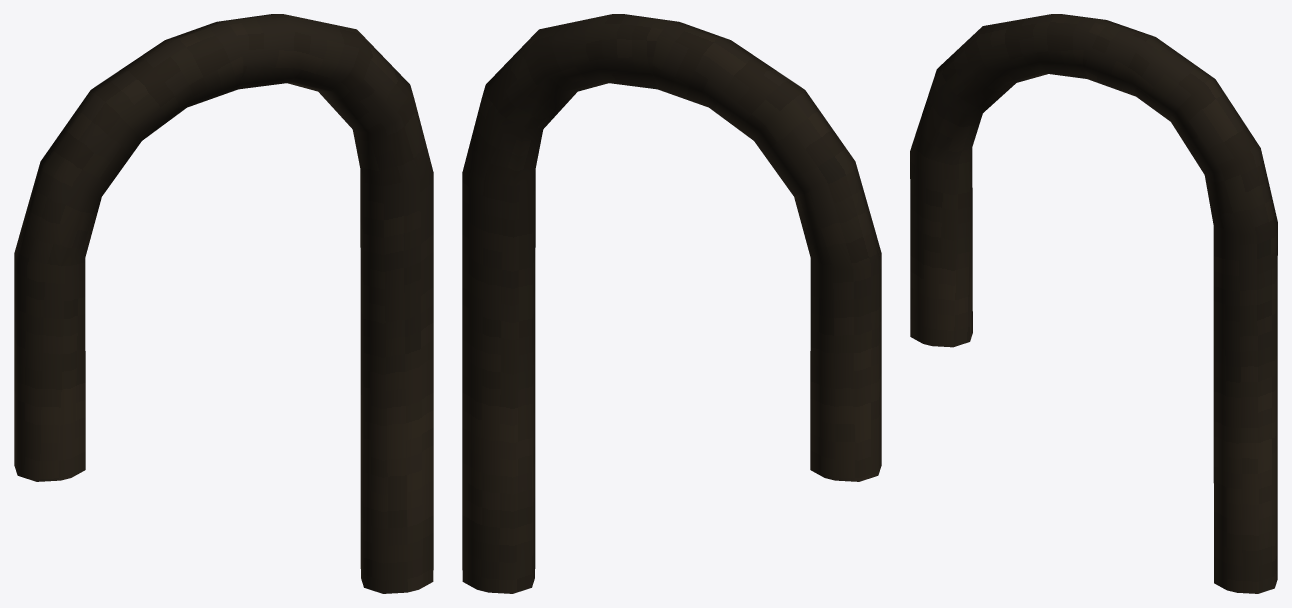
File: padlock_3_shackle.glb
3 renders of one model, left to right at view 1: azimuth 30°, elevation 25°; view 2: azimuth 150°, elevation 25°; view 3: azimuth 330°, elevation 25°, orthographic. The views are drawn at different scales.
Visible parts, largest first — view 1: padlock_3_shackle; view 2: padlock_3_shackle; view 3: padlock_3_shackle.
Part boxes in pixels (bbox=[...]): padlock_3_shackle: bbox=[14, 14, 433, 593]; padlock_3_shackle: bbox=[462, 14, 881, 593]; padlock_3_shackle: bbox=[910, 14, 1277, 593].
Bounding box in the file's own units: 0.0686 × 0.0951 × 0.0091.
1 material, 1 textured.
